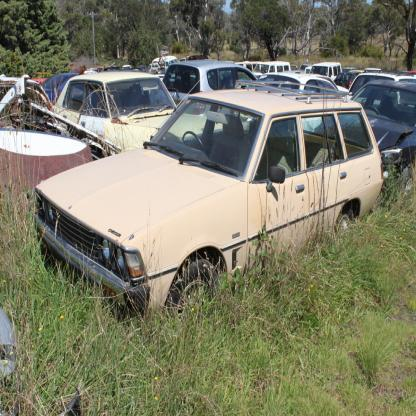Car: (1, 50, 416, 346)
